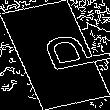P_W: (12, 30, 98, 80)
